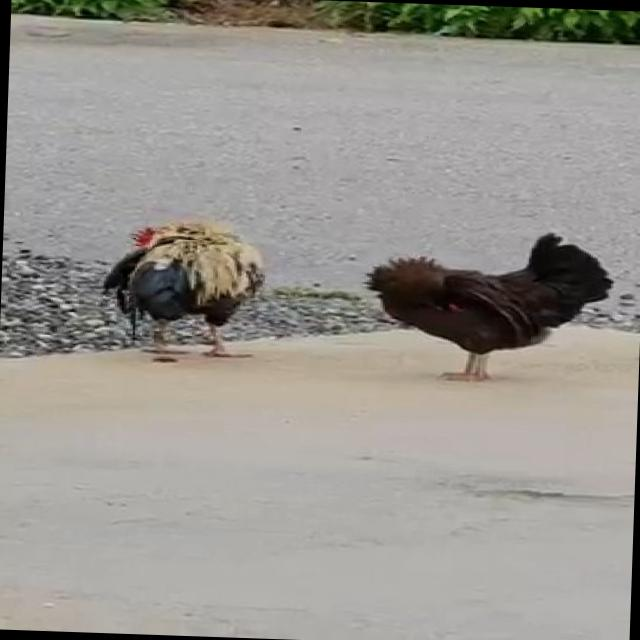self preening: (360, 224, 614, 396), (84, 218, 278, 368)
